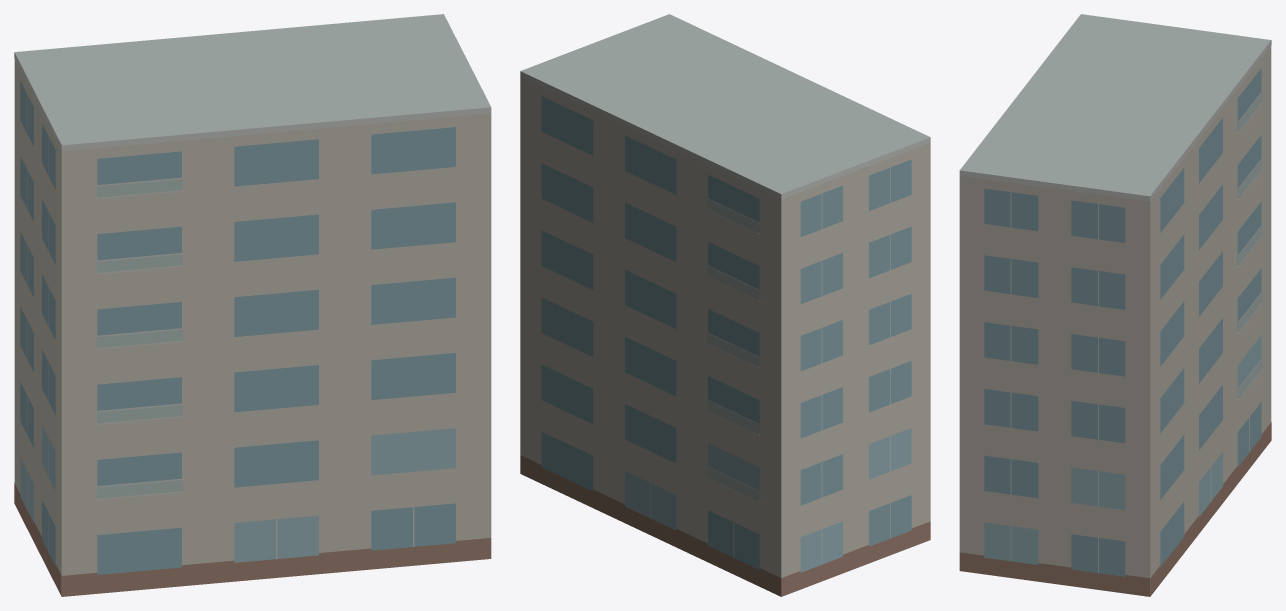
The model's file is survey-upis-32752681.glb.
3 renders of one model, left to right at view 1: azimuth 30°, elevation 25°; view 2: azimuth 150°, elevation 25°; view 3: azimuth 270°, elevation 25°, orthographic. The views are drawn at different scales.
Visible parts, largest first — view 1: survey-upis-32752681.tmp; view 2: survey-upis-32752681.tmp; view 3: survey-upis-32752681.tmp.
Part boxes in pixels (left/top/right/bottom): survey-upis-32752681.tmp: left=14, top=14, right=491, bottom=596; survey-upis-32752681.tmp: left=520, top=14, right=930, bottom=596; survey-upis-32752681.tmp: left=959, top=14, right=1271, bottom=596.
Size of the model in its own units: 17.87 by 18.3 by 12.92.
